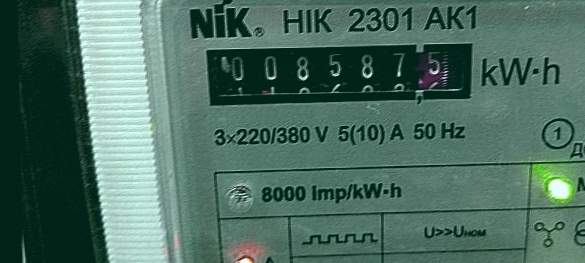0: (227, 50, 244, 79), (261, 50, 278, 79)
5: (425, 46, 442, 76), (325, 48, 342, 76)
7: (389, 46, 406, 76)
8: (357, 48, 374, 78), (293, 51, 309, 79)
screen: (186, 25, 490, 114)
